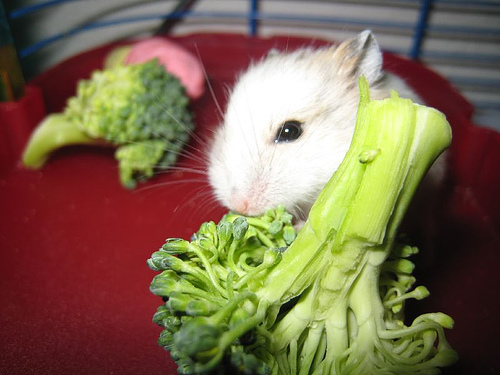broccoli: (147, 203, 455, 374), (19, 56, 198, 191)
